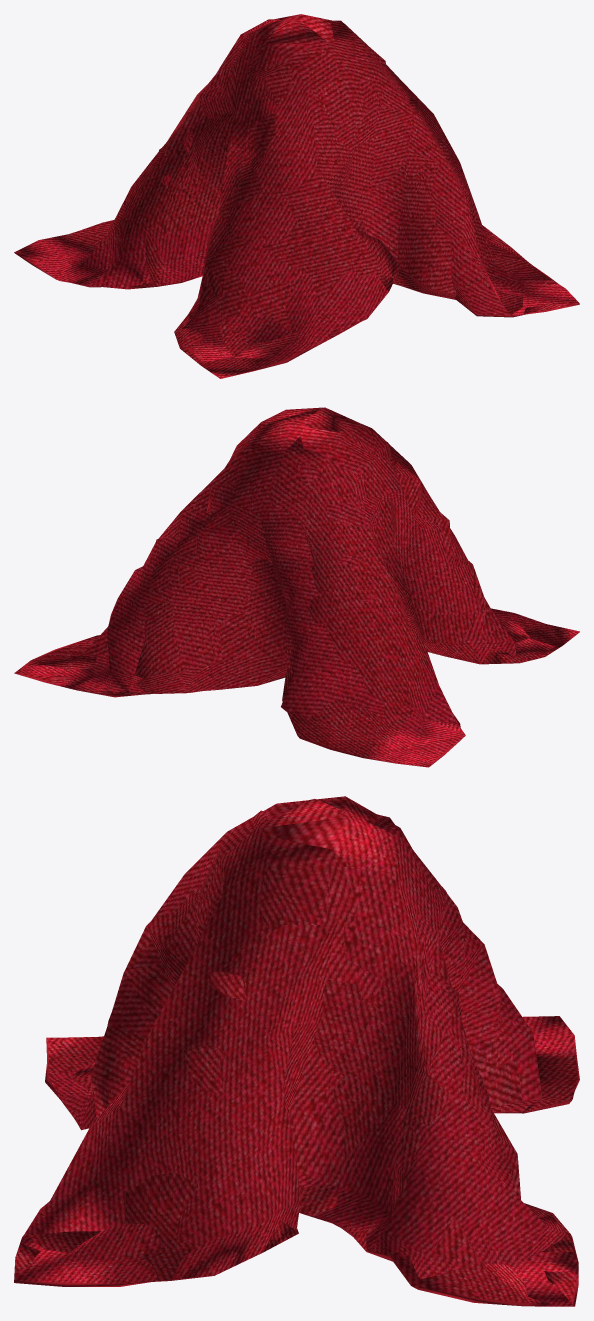
Rendered from telaroja2.fbx.
The picture shows the model from 3 angles, top to bottom: view 1: azimuth 30°, elevation 25°; view 2: azimuth 150°, elevation 25°; view 3: azimuth 270°, elevation 25°; orthographic projection. The views are drawn at different scales.
Visible parts, largest first — view 1: Cube; view 2: Cube; view 3: Cube.
Boxes of the visible parts, bbox=[...] form: Cube: bbox=[14, 14, 579, 378]; Cube: bbox=[14, 407, 579, 767]; Cube: bbox=[14, 796, 579, 1306].
Bounding box in the file's own units: 160 × 91.24 × 133.
1 material, 1 textured.
